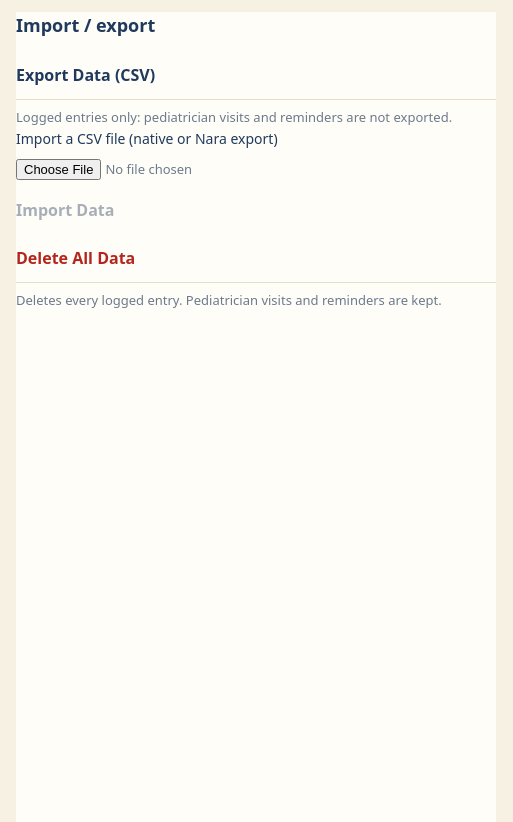
Test: ExportImportSection › shows an error message when the export fails
The width and height of the screenshot is (513, 822).
Click the button "Export Data (CSV)".
click(86, 75)  # box [16,51,496,100]
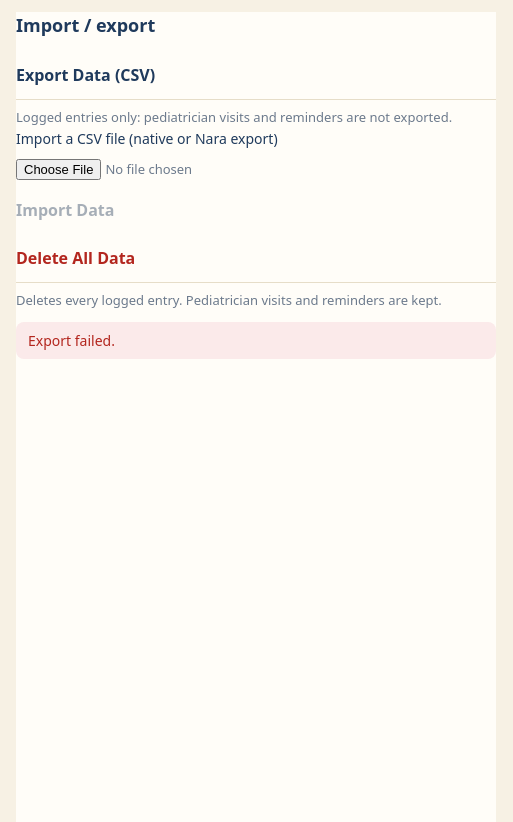
Now the message reads "Export failed.", box [28,331,115,350]
